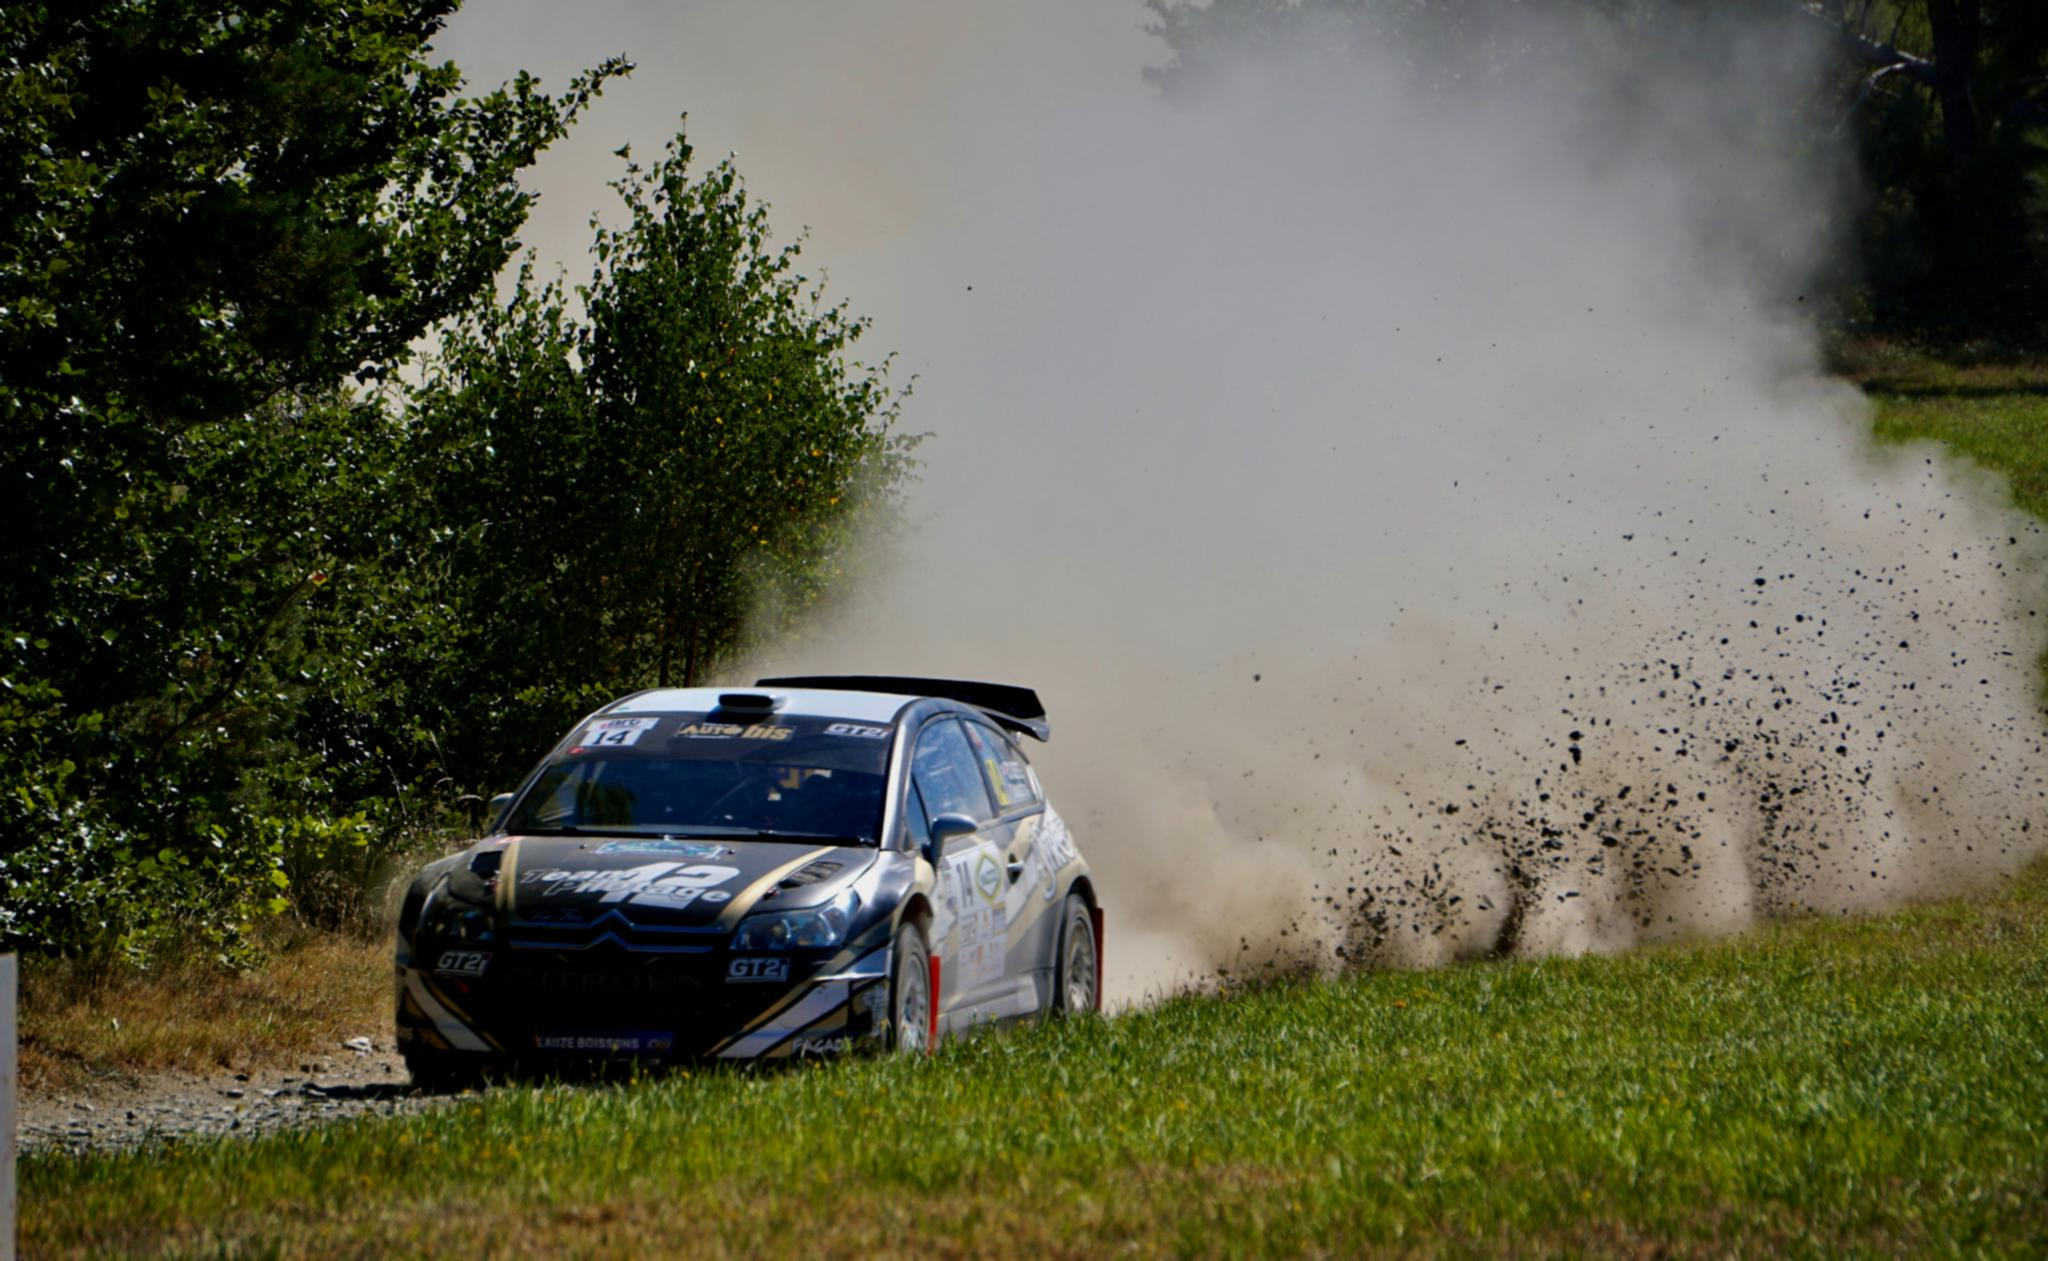Citroen: (572, 889, 648, 974)
